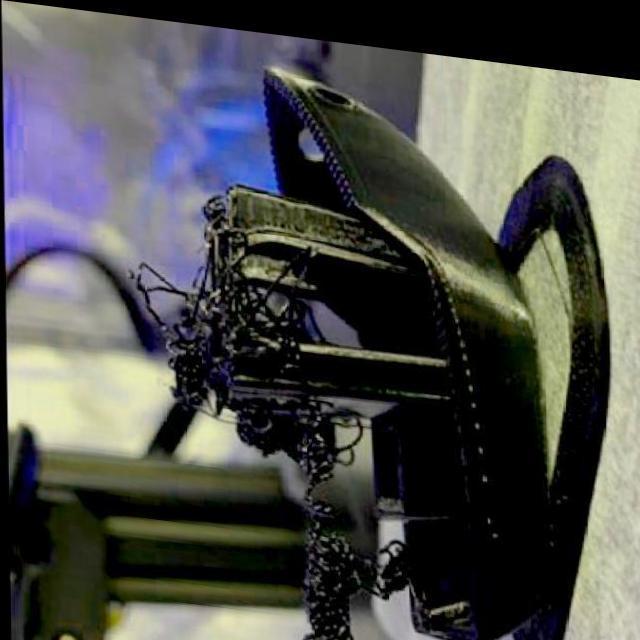spaghetti: (118, 181, 360, 494), (289, 487, 410, 640)
